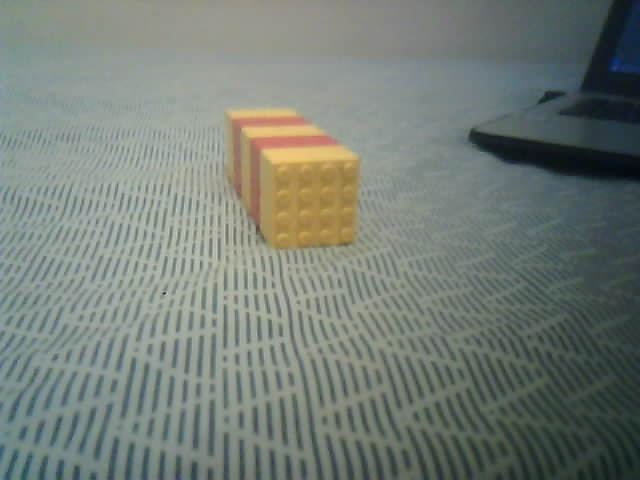lego: (221, 104, 360, 250)
